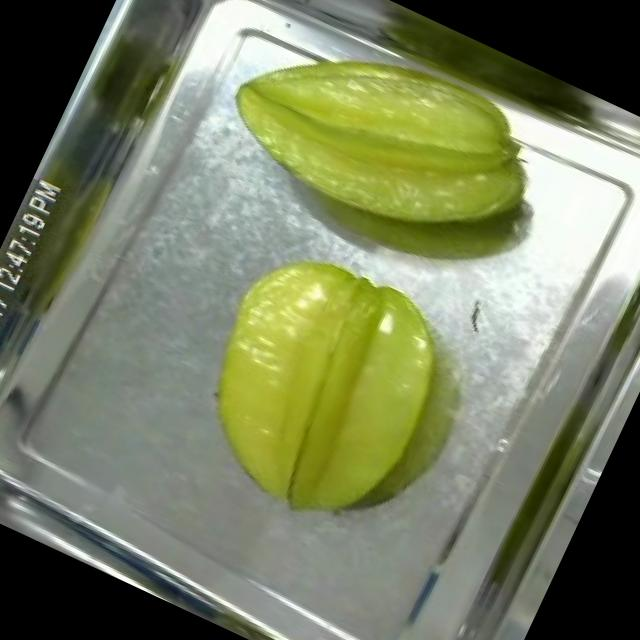fruit: (153, 212, 490, 564), (199, 0, 572, 289)
